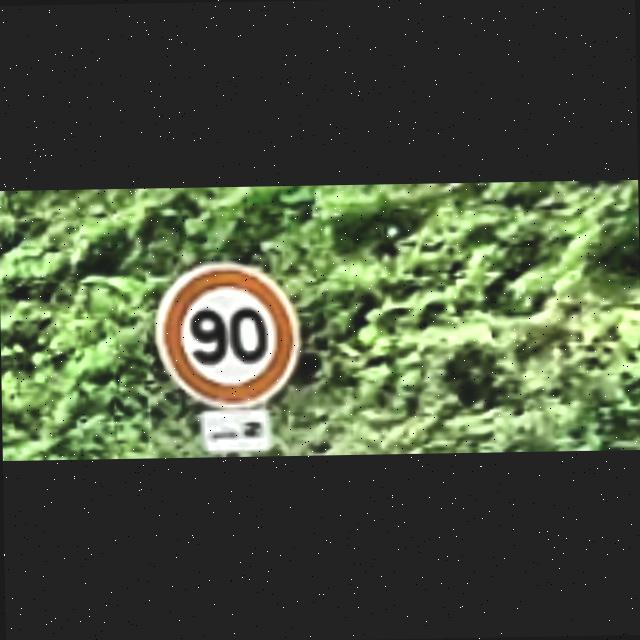speed_90: (153, 259, 302, 412)
